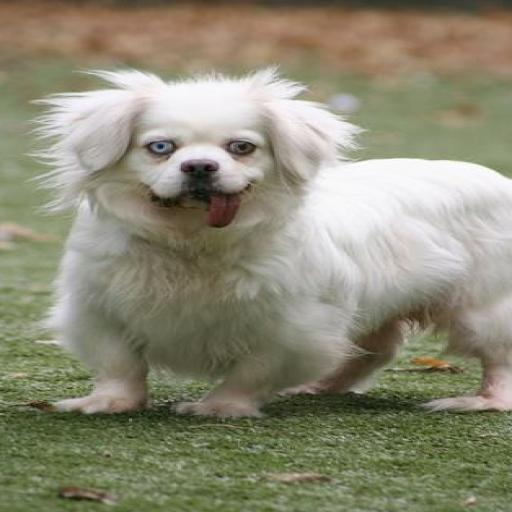dog_face: (32, 78, 306, 219)
